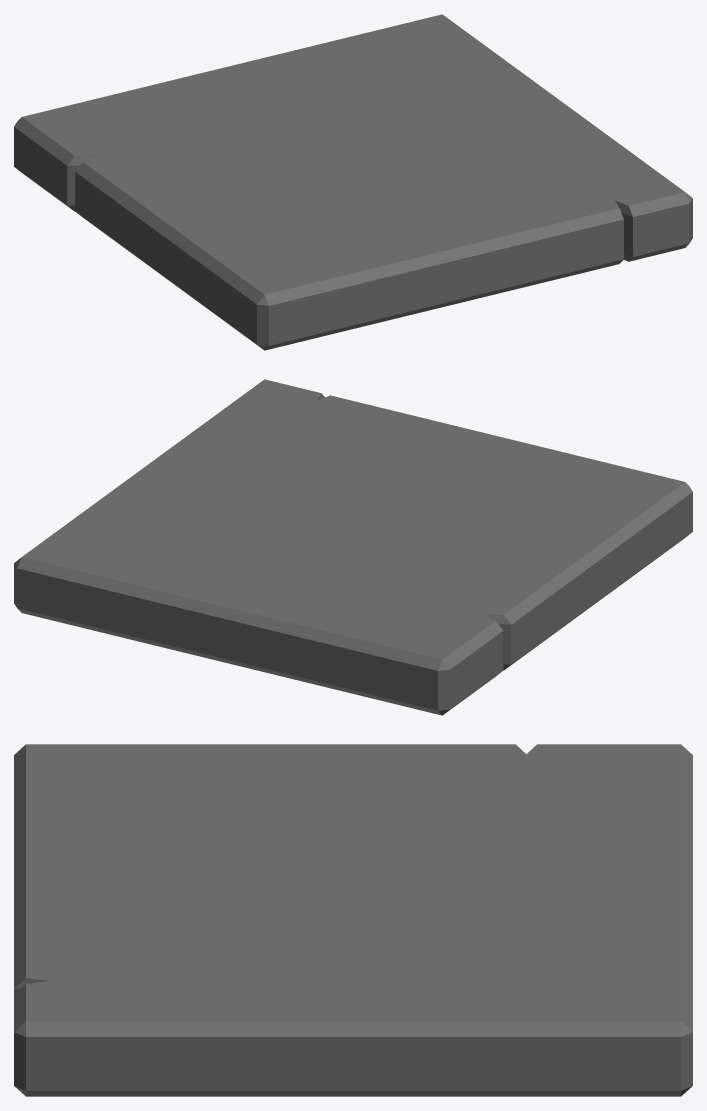
Rendered from Tile_06.fbx.
The picture shows the model from 3 angles, top to bottom: view 1: azimuth 30°, elevation 25°; view 2: azimuth 150°, elevation 25°; view 3: azimuth 270°, elevation 25°; orthographic projection. The views are drawn at different scales.
Parts seen in each view (by area): view 1: Tile_06; view 2: Tile_06; view 3: Tile_06.
Boxes of the visible parts, left/top/right/bottom form: Tile_06: left=14, top=14, right=692, bottom=350; Tile_06: left=14, top=379, right=692, bottom=715; Tile_06: left=14, top=744, right=692, bottom=1096.
Bounding box in the file's own units: 1.48 × 0.1816 × 1.48.
